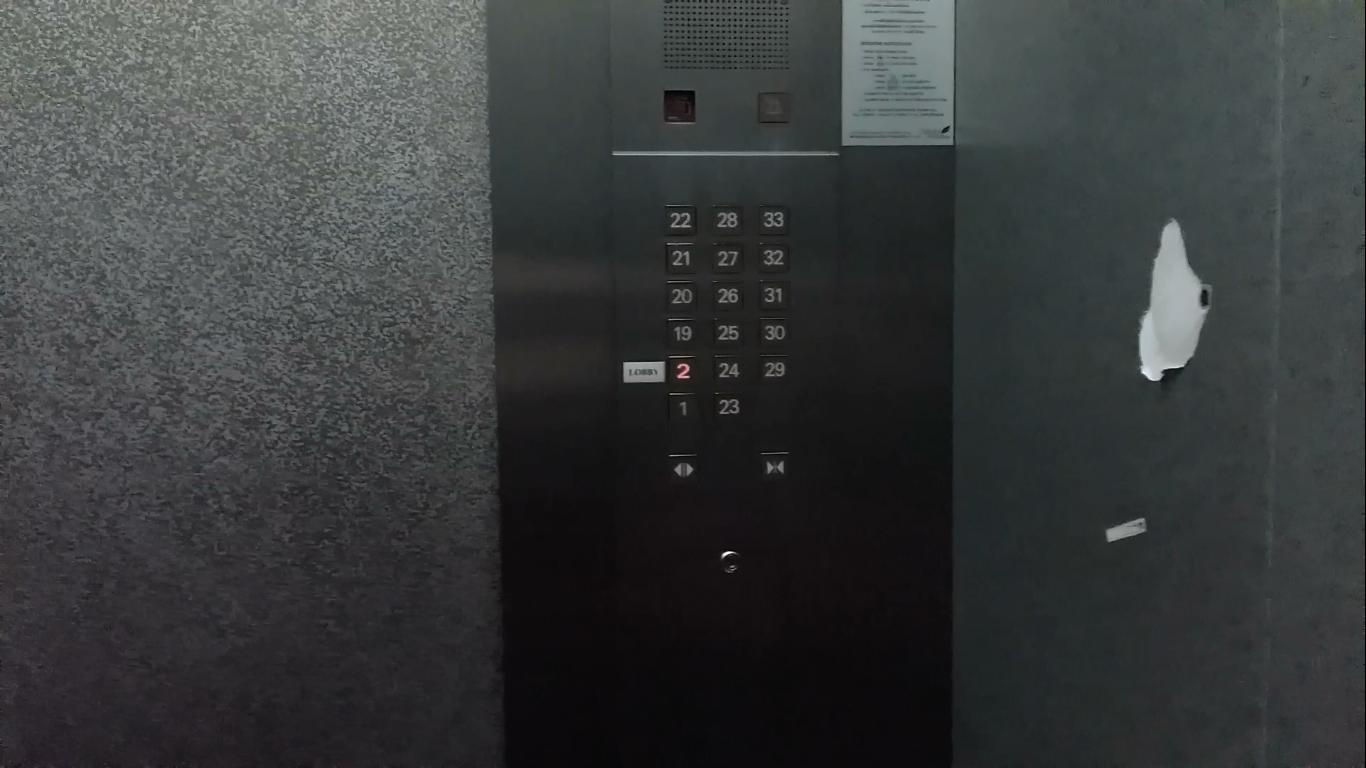1: (667, 391, 700, 425)
19: (664, 315, 699, 349)
2: (665, 353, 700, 387)
20: (665, 279, 700, 313)
21: (665, 241, 700, 275)
22: (663, 203, 698, 237)
23: (711, 389, 746, 423)
24: (711, 352, 746, 386)
25: (711, 315, 746, 349)
26: (711, 280, 746, 314)
27: (711, 242, 746, 276)
28: (710, 203, 745, 237)
29: (757, 353, 792, 387)
30: (756, 316, 791, 350)
31: (756, 277, 791, 311)
32: (756, 240, 791, 274)
33: (755, 203, 790, 237)
alarm: (754, 91, 794, 125)
close: (757, 450, 792, 484)
open: (666, 452, 701, 486)
unknown: (660, 87, 697, 124)
